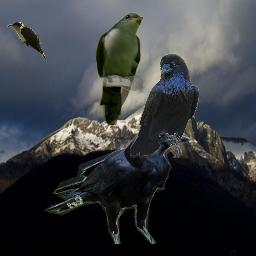Crow: (45, 127, 193, 244), (130, 53, 199, 158)
Cuckoo: (95, 12, 144, 125), (7, 22, 46, 60)
